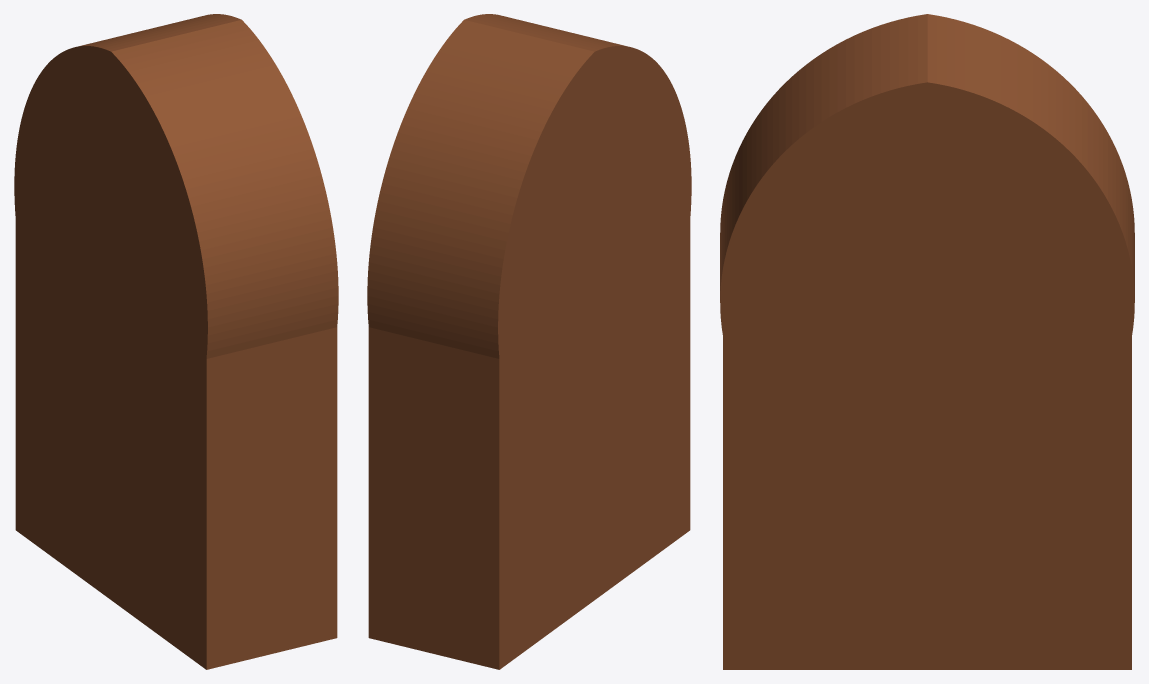
File: puerta.glb
The picture shows the model from 3 angles, left to right: view 1: azimuth 30°, elevation 25°; view 2: azimuth 150°, elevation 25°; view 3: azimuth 270°, elevation 25°; orthographic projection. The views are drawn at different scales.
Visible parts, largest first — view 1: Cube; view 2: Cube; view 3: Cube.
Part boxes in pixels (box(x1,y1,x2,y2)): Cube: box(14, 14, 338, 669); Cube: box(367, 14, 691, 669); Cube: box(720, 14, 1134, 669).
Size of the model in its own units: 1.89 by 7.58 by 4.85.
